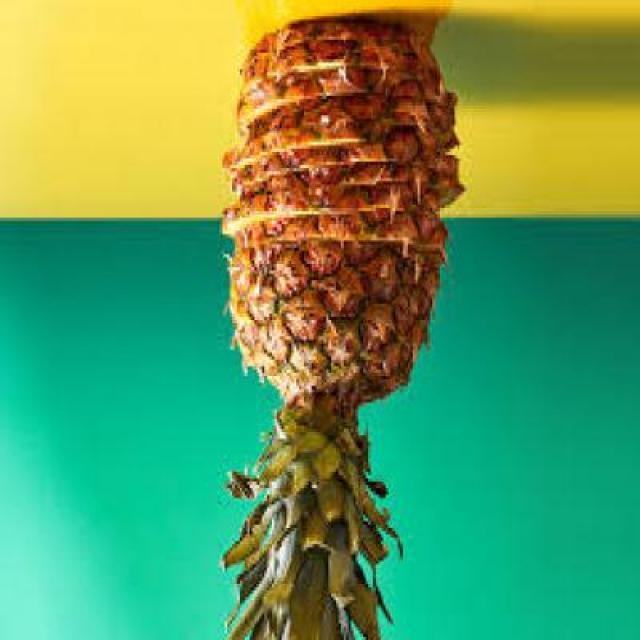Pineapple: (215, 16, 462, 638)
